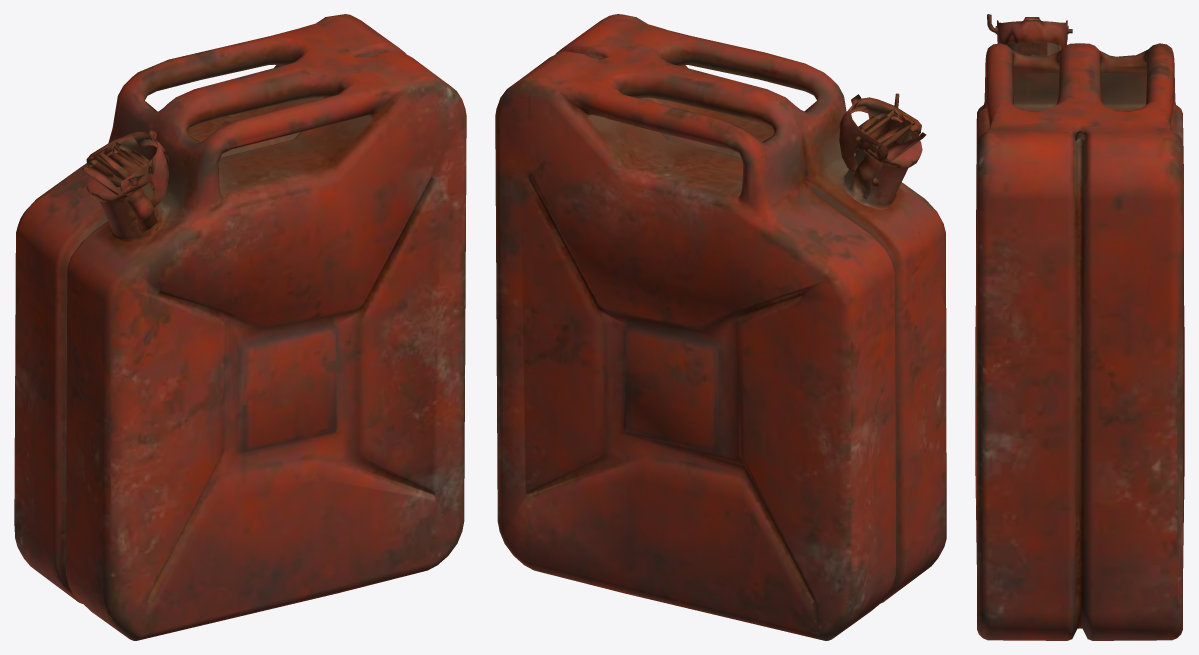
File: metal_jerrycan.glb
3 renders of one model, left to right at view 1: azimuth 30°, elevation 25°; view 2: azimuth 150°, elevation 25°; view 3: azimuth 270°, elevation 25°, orthographic. The views are drawn at different scales.
Visible parts, largest first — view 1: metal_jerrycan; view 2: metal_jerrycan; view 3: metal_jerrycan.
Part boxes in pixels (<box>): metal_jerrycan: <box>14,14,466,640</box>; metal_jerrycan: <box>495,14,946,640</box>; metal_jerrycan: <box>975,14,1184,640</box>.
Bounding box in the file's own units: 0.35 × 0.4549 × 0.1717.
1 material, 1 textured.
